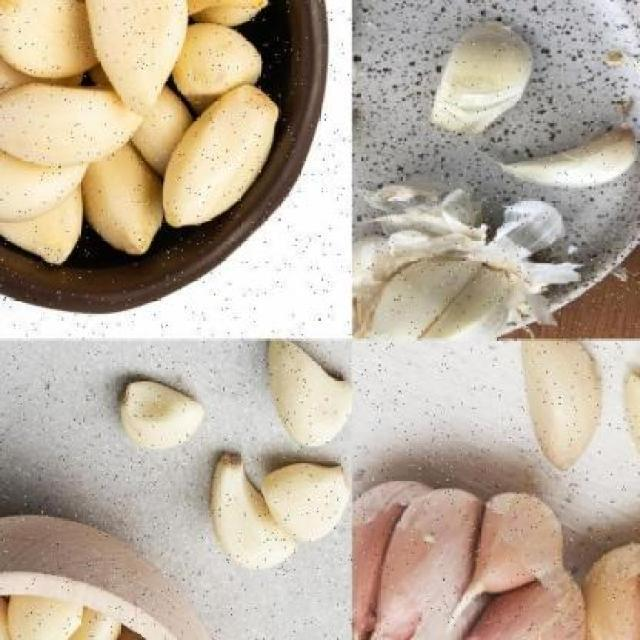garlic: (352, 472, 574, 640), (158, 86, 284, 237), (352, 230, 526, 338), (208, 451, 350, 574), (69, 0, 189, 117), (424, 18, 532, 134), (518, 338, 606, 476), (78, 147, 166, 258), (0, 114, 89, 218), (266, 338, 351, 446), (486, 128, 637, 188), (0, 0, 103, 85), (172, 22, 270, 100), (116, 378, 207, 452), (616, 363, 638, 486)
